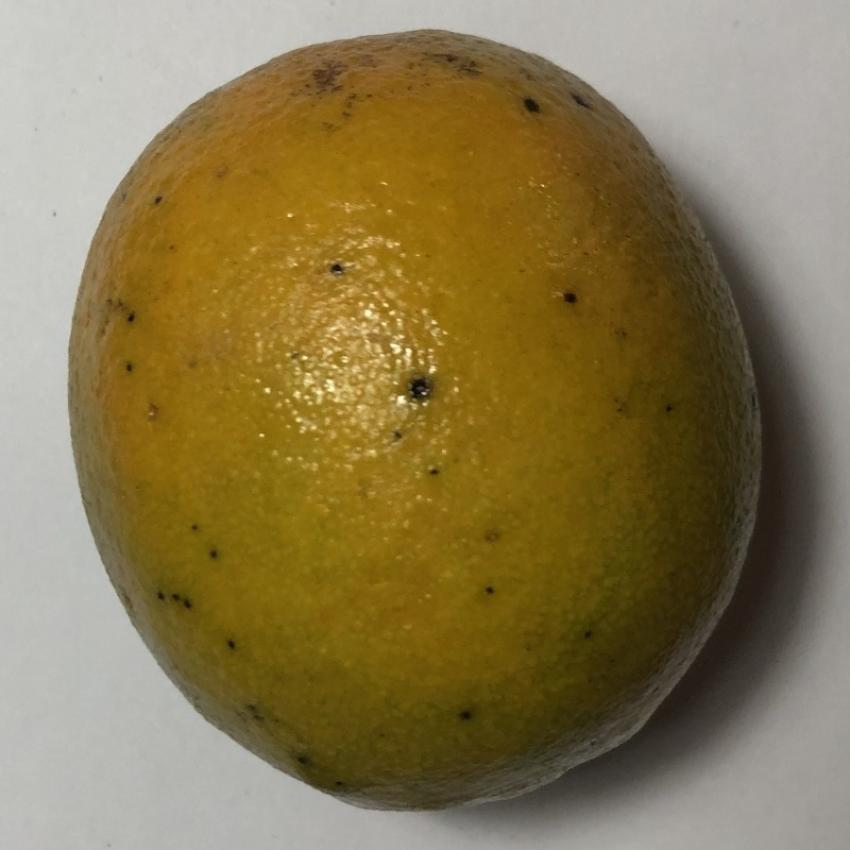Mal estado: (43, 16, 788, 820)
